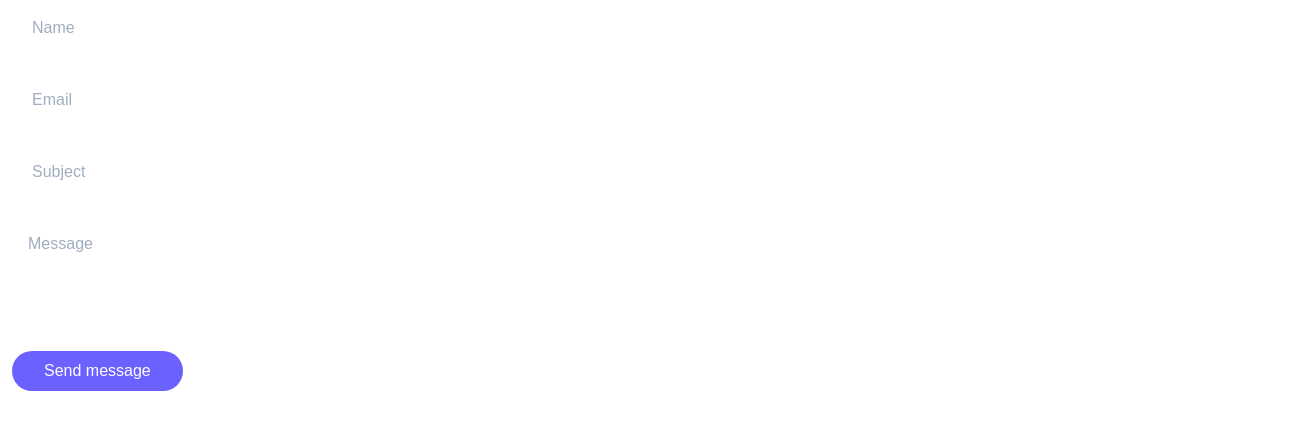
Test: ContactForm Component › should show error message on submission failed
Type "Test Guy" into the field with placeholder "Name". click: [652, 28]
box: x1=12 y1=8 x2=1292 y2=48
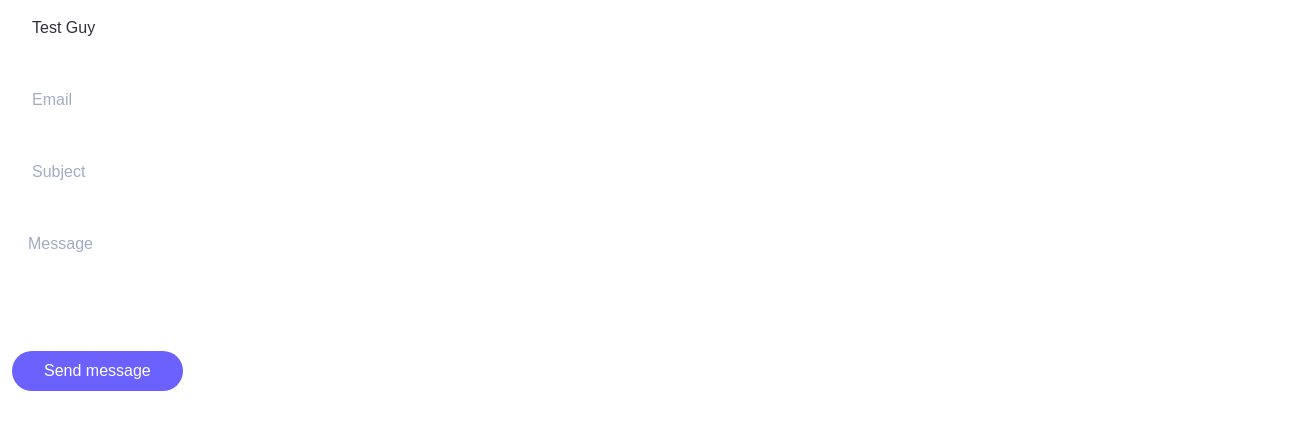
Type "test_guy@email.test" into the field with placeholder "Email". click: [652, 100]
box: x1=12 y1=80 x2=1292 y2=120
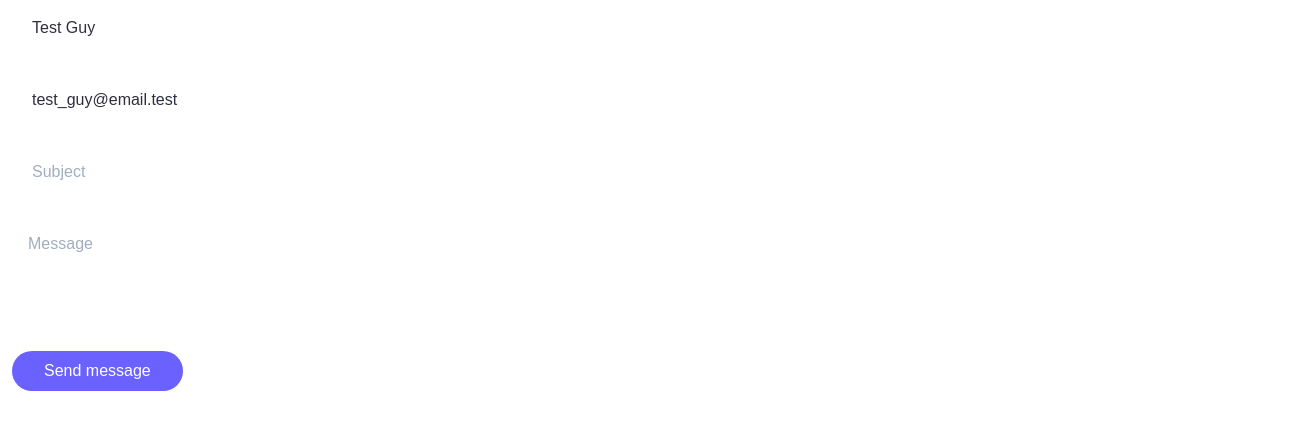
Type "Test subject" into the field with placeholder "Subject". click: [652, 172]
box: x1=12 y1=152 x2=1292 y2=192
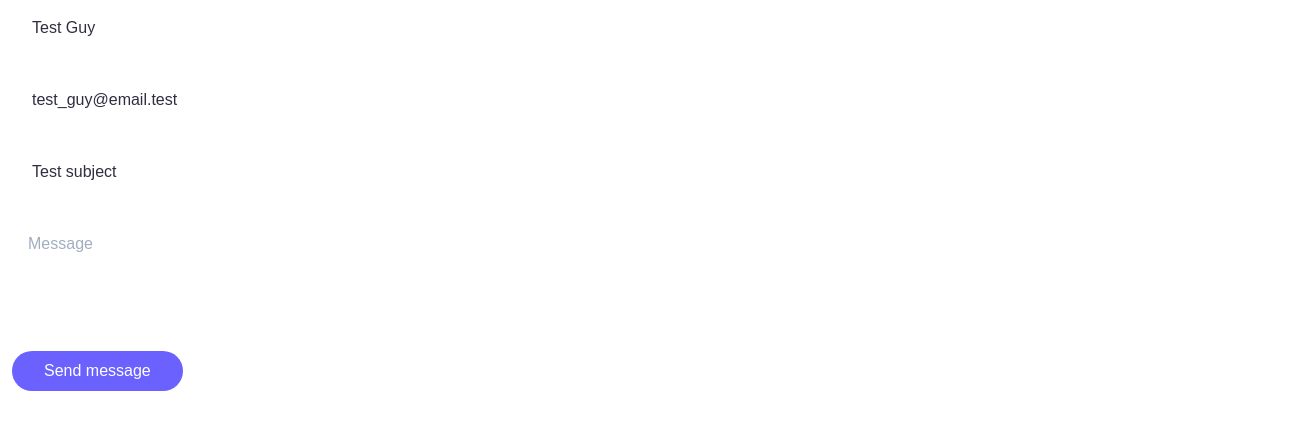
Type "This is a test message" into the text box with placeholder "Message". click: [652, 268]
box: x1=12 y1=224 x2=1292 y2=312
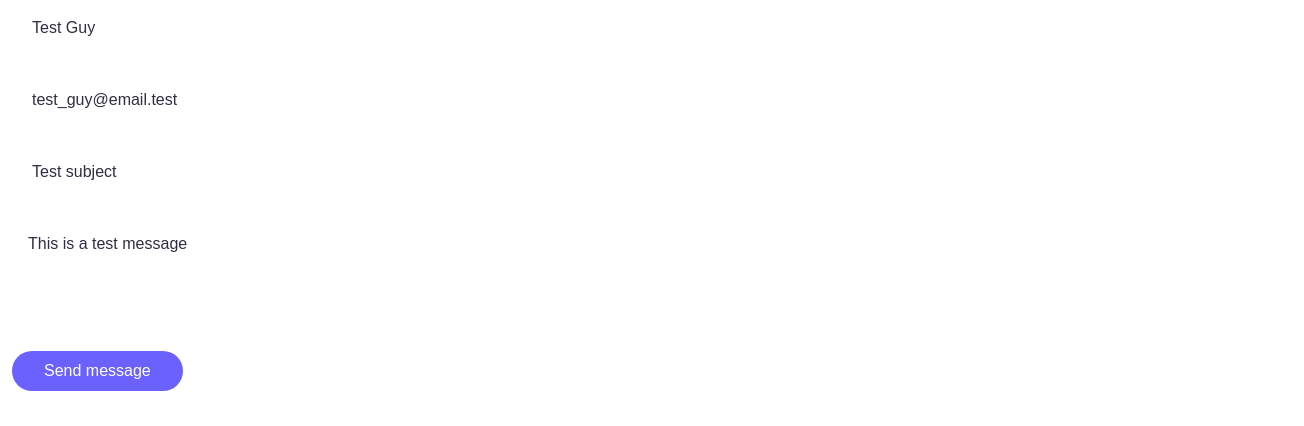
Click the button "Send message". click: [97, 371]
box: x1=12 y1=351 x2=183 y2=391
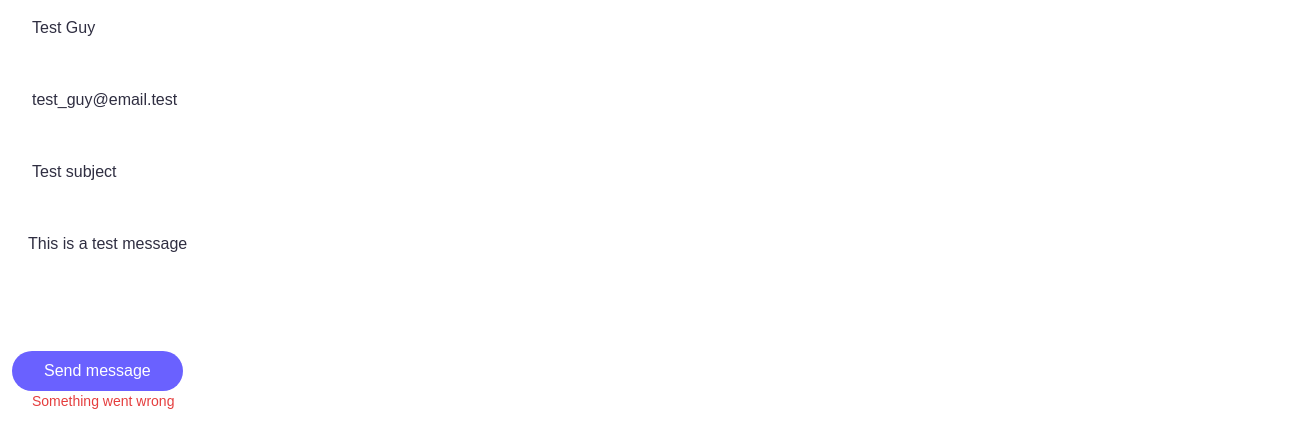
Now the text "Something went wrong" is shown, box x1=32 y1=393 x2=174 y2=409
